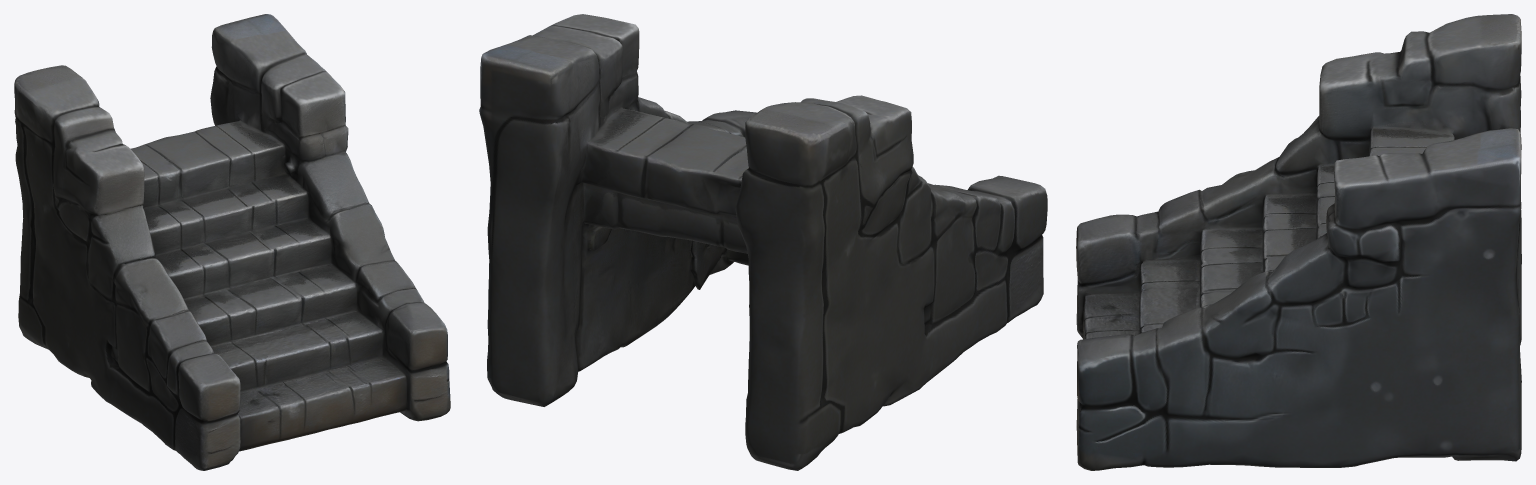
The model's file is stairs_descending.glb.
The picture shows the model from 3 angles, left to right: view 1: azimuth 30°, elevation 25°; view 2: azimuth 150°, elevation 25°; view 3: azimuth 270°, elevation 25°; orthographic projection. The views are drawn at different scales.
Size of the model in its own units: 1.63 by 1.56 by 2.
Materials: 1 (1 with a texture image).
